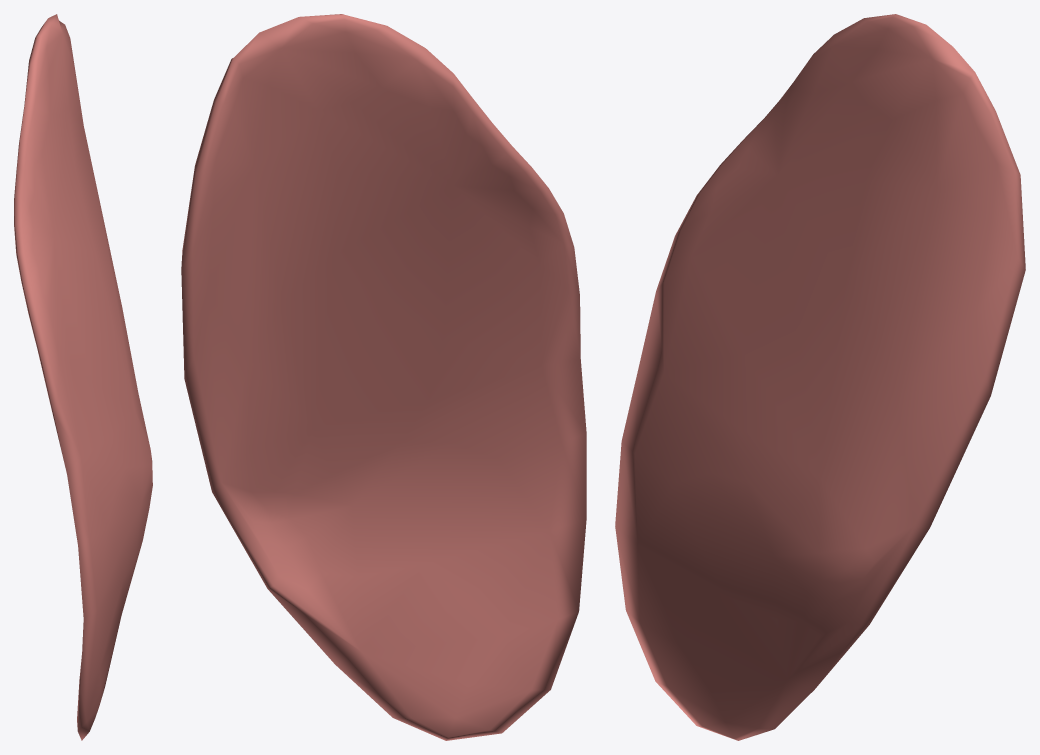
3 views of the same model, side by side, from view 1: azimuth 30°, elevation 25°; view 2: azimuth 150°, elevation 25°; view 3: azimuth 270°, elevation 25° (orthographic). The views are drawn at different scales.
Parts seen in each view (by area): view 1: ZA_fea4f0e47df13bbe; view 2: ZA_fea4f0e47df13bbe; view 3: ZA_fea4f0e47df13bbe.
Part boxes in pixels (x1,y1,x2,y2): ZA_fea4f0e47df13bbe: [14, 14, 152, 740]; ZA_fea4f0e47df13bbe: [181, 14, 586, 740]; ZA_fea4f0e47df13bbe: [615, 14, 1025, 740].
Size of the model in its own units: 0.00728 by 0.023 by 0.0116.
